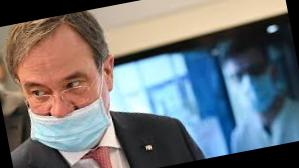mask_weared_incorrect: (19, 54, 113, 153)
with_mask: (230, 66, 276, 110)
